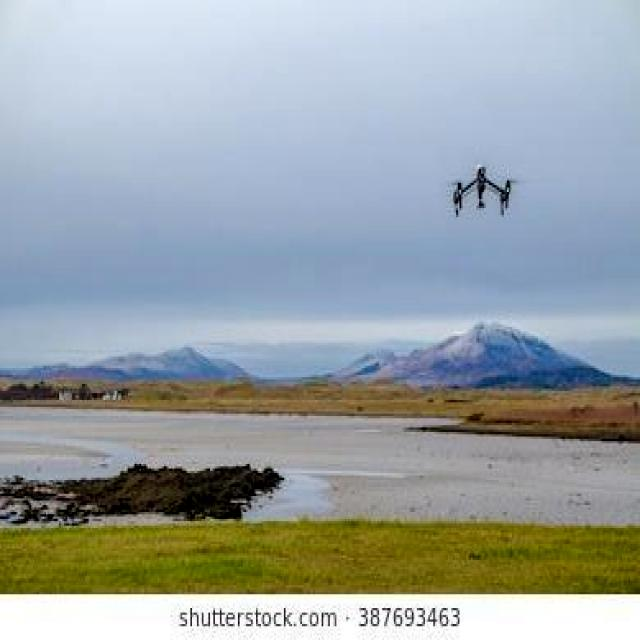drone: (450, 162, 515, 217)
